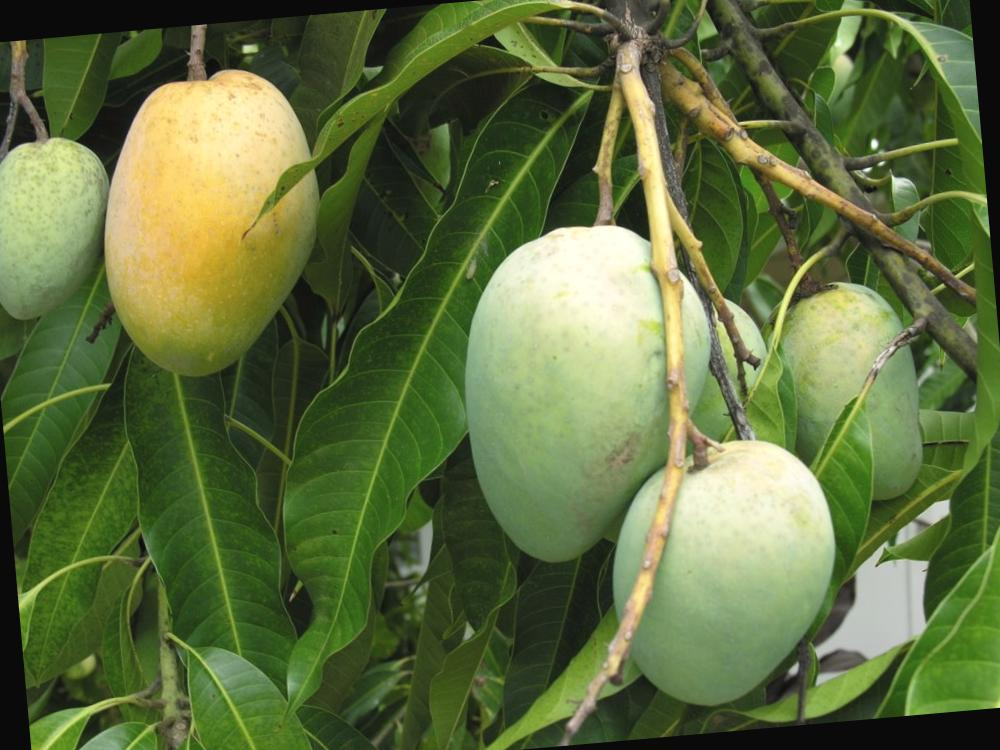Mango Ripe: (96, 52, 332, 375)
